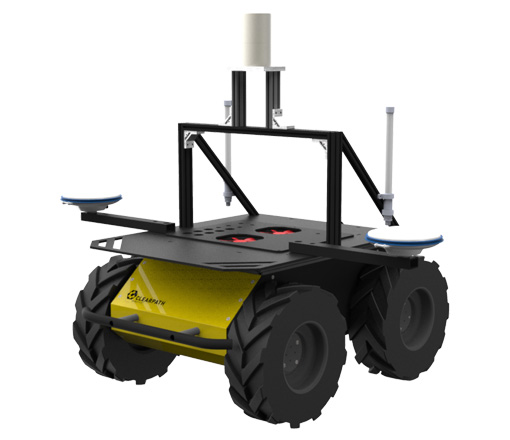husky: (59, 11, 450, 429)
